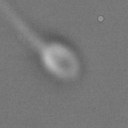normal: (1, 1, 45, 50)
